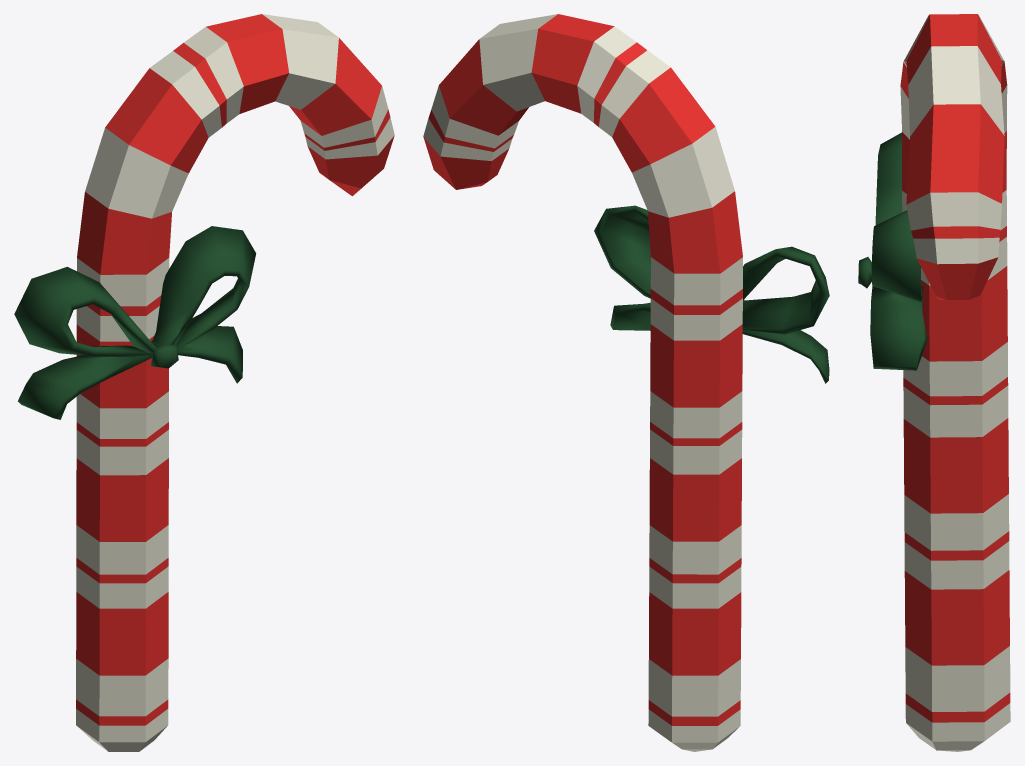
The model's file is Candycane_decorated.fbx.
3 views of the same model, side by side, from view 1: azimuth 30°, elevation 25°; view 2: azimuth 150°, elevation 25°; view 3: azimuth 270°, elevation 25° (orthographic). The views are drawn at different scales.
Visible parts, largest first — view 1: Candycane_decorated; view 2: Candycane_decorated; view 3: Candycane_decorated.
Part boxes in pixels (box(x1,y1,x2,y2)): Candycane_decorated: box(14, 14, 394, 751); Candycane_decorated: box(423, 14, 829, 751); Candycane_decorated: box(858, 14, 1010, 751).
Bounding box in the file's own units: 0.1158 × 0.2001 × 0.035.
